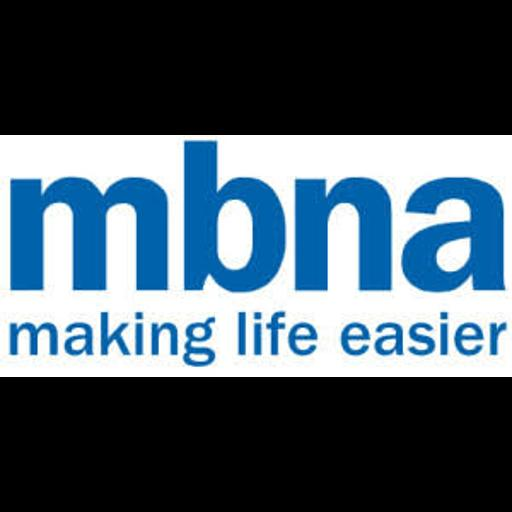MBNA Corportation: (0, 135, 512, 377)
